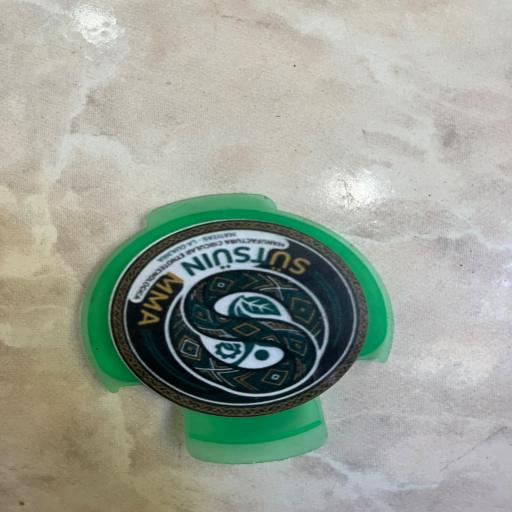HDPE: (60, 177, 438, 484)
